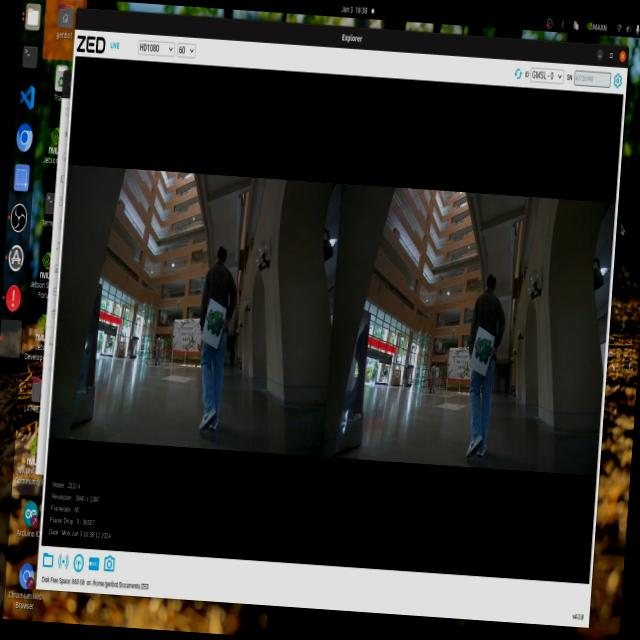green: (470, 326, 497, 386), (200, 302, 230, 346)
